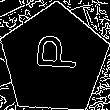P_W: (28, 40, 80, 79)
